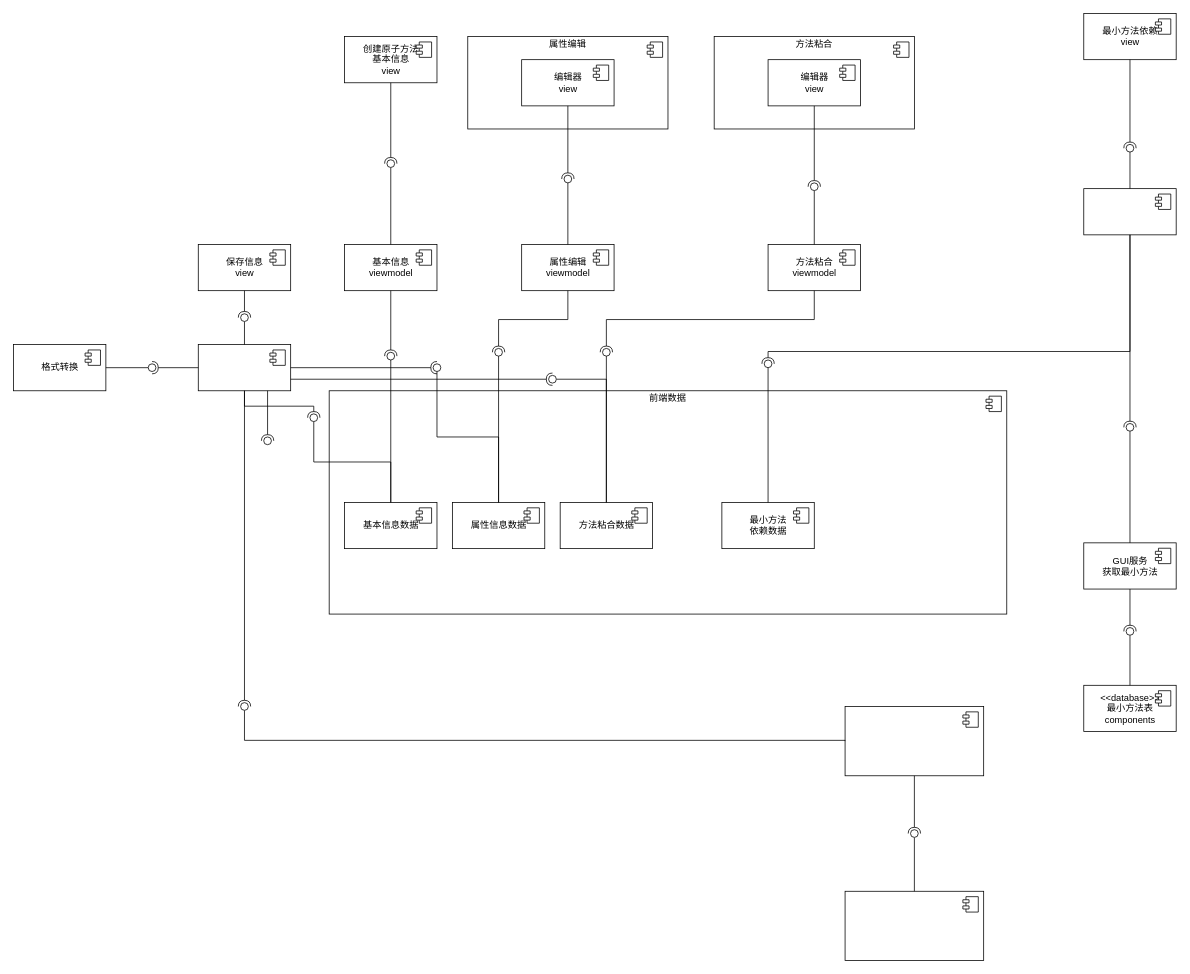
The diagram is 1190 pixels wide and 974 high, and some of its shapes have lost their labels. Each missing label, with the centre of its shape:
"<<database>> components" goes at (914,926).
"GUI服务 保存原子方法" goes at (914,741).
"保存信息 viewmodel" goes at (244,367).
"最小方法依赖 viewmodel" goes at (1129,211).
